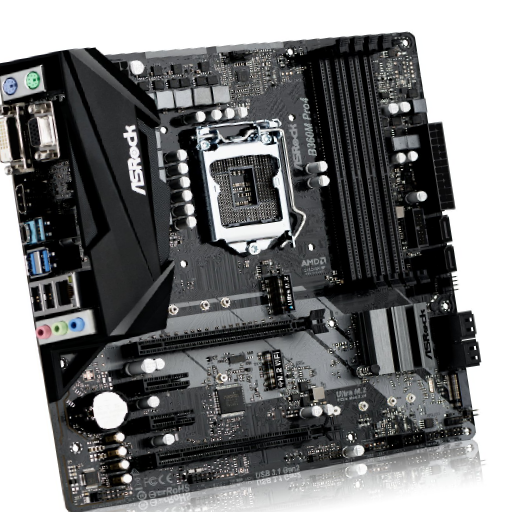CPU: (195, 121, 296, 254)
GPU: (124, 306, 329, 358), (142, 417, 341, 469)
MOTHERBOARD: (1, 33, 477, 512)
RAM: (311, 35, 429, 288)
SSD: (263, 274, 295, 313), (261, 350, 288, 388)
